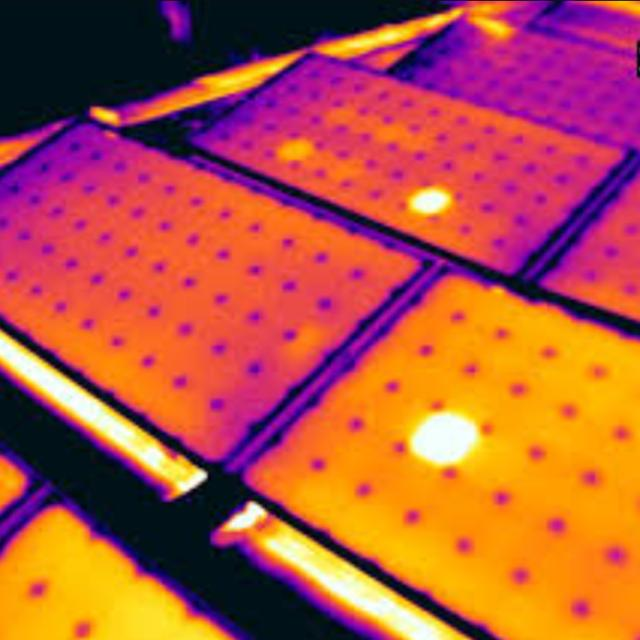hotspot group: (402, 396, 494, 475), (407, 178, 461, 222), (272, 127, 323, 165)
panel with hotspots: (224, 260, 640, 640), (172, 44, 640, 293)
